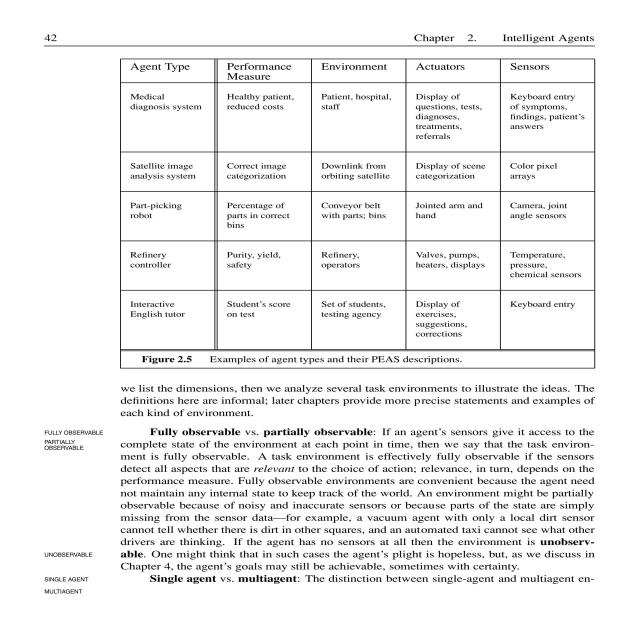diagram: (94, 54, 596, 372)
